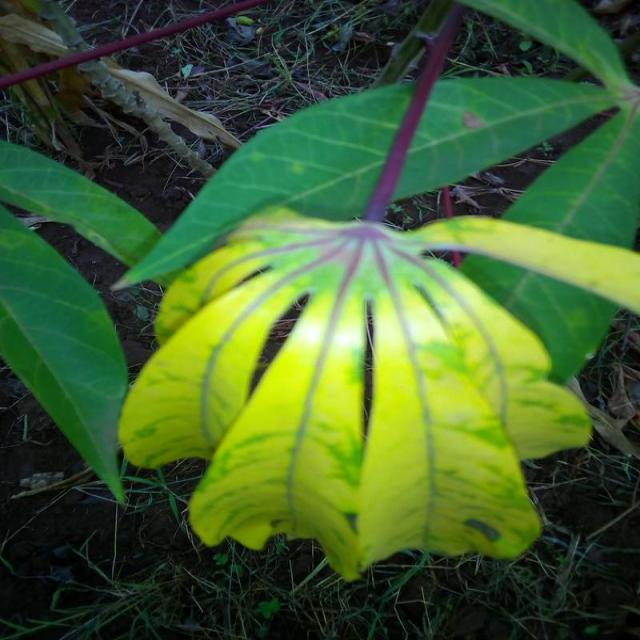cassava leaf: (111, 71, 638, 582), (107, 73, 625, 294), (0, 202, 130, 506)
